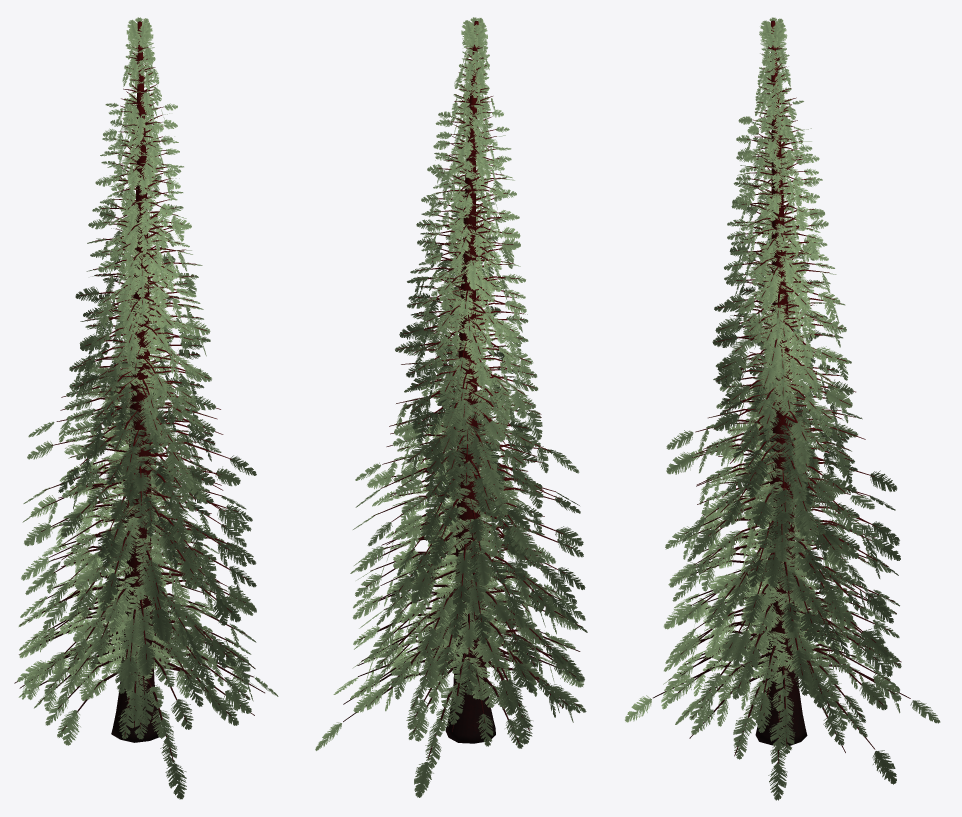
File: baldcypress_v03_LOD1.glb
The picture shows the model from 3 angles, left to right: view 1: azimuth 30°, elevation 25°; view 2: azimuth 150°, elevation 25°; view 3: azimuth 270°, elevation 25°; orthographic projection.
Parts seen in each view (by area): view 1: baldcypress_v03_LOD1; view 2: baldcypress_v03_LOD1; view 3: baldcypress_v03_LOD1.
Part boxes in pixels (bbox=[...]): baldcypress_v03_LOD1: bbox=[14, 17, 278, 799]; baldcypress_v03_LOD1: bbox=[315, 17, 587, 797]; baldcypress_v03_LOD1: bbox=[625, 17, 940, 800].
Bounding box in the file's own units: 10.93 × 30.54 × 12.47.
2 materials, 2 textured.
